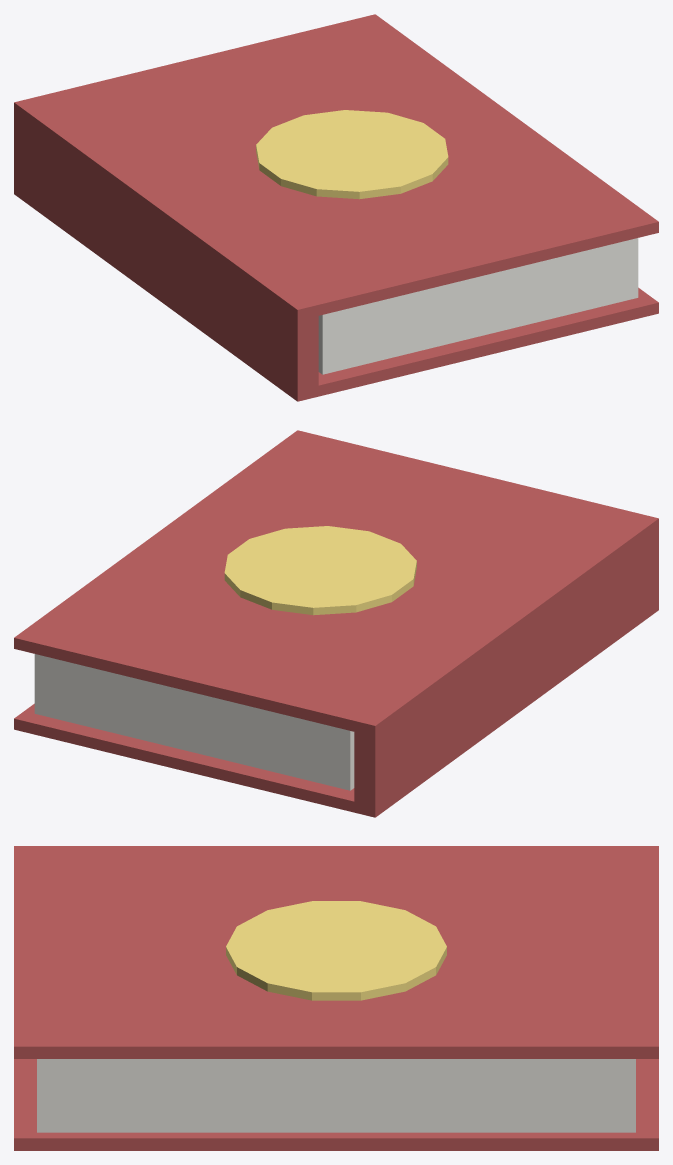
Rendered from passport_held.gltf.
The picture shows the model from 3 angles, top to bottom: view 1: azimuth 30°, elevation 25°; view 2: azimuth 150°, elevation 25°; view 3: azimuth 270°, elevation 25°; orthographic projection. The views are drawn at different scales.
Parts seen in each view (by area): view 1: passport_passport_held; view 2: passport_passport_held; view 3: passport_passport_held.
Boxes of the visible parts, x1=… form: passport_passport_held: x1=14, y1=14, x2=658, y2=401; passport_passport_held: x1=14, y1=430, x2=658, y2=817; passport_passport_held: x1=14, y1=846, x2=658, y2=1150.
Bounding box in the file's own units: 0.103 × 0.027 × 0.14.
